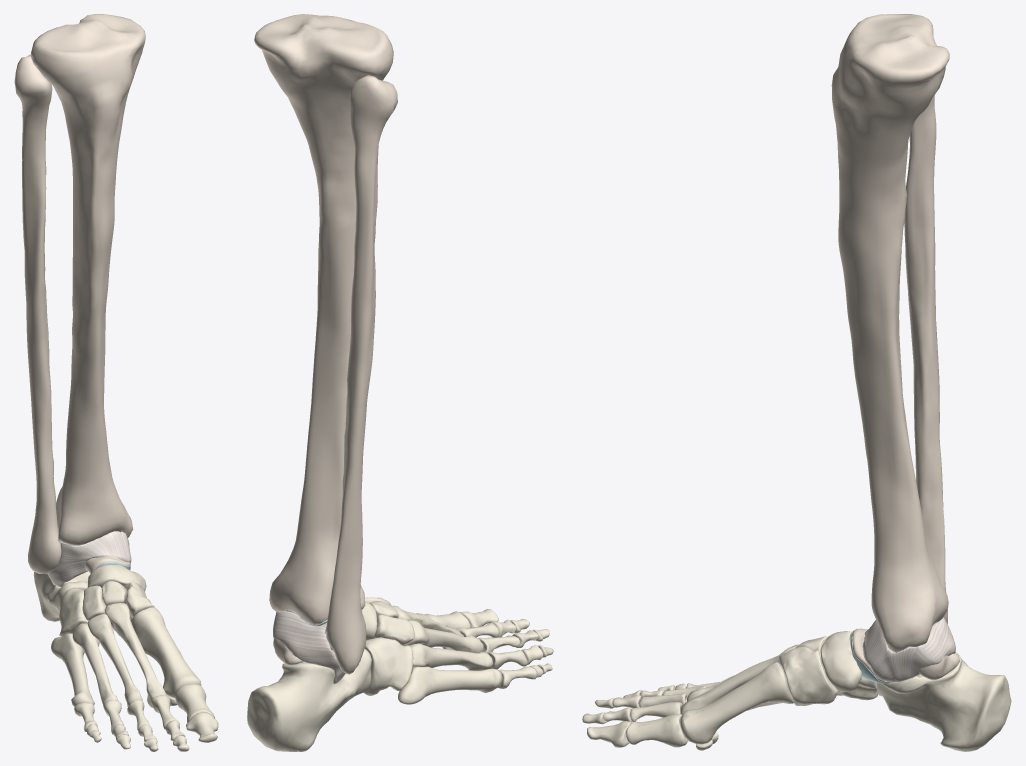
The model's file is ankle-B1fpQbyl.glb.
3 views of the same model, side by side, from view 1: azimuth 30°, elevation 25°; view 2: azimuth 150°, elevation 25°; view 3: azimuth 270°, elevation 25° (orthographic). The views are drawn at different scales.
Parts seen in each view (by area): view 1: Tibia, FootBones, Fibula, Capsule, Talus; view 2: Tibia, FootBones, Fibula, Capsule; view 3: Tibia, FootBones, Fibula, Capsule, Talus.
Part boxes in pixels (<box>): Tibia: <box>30,14,145,545</box>; FootBones: <box>33,564,218,751</box>; Fibula: <box>14,55,61,574</box>; Capsule: <box>48,531,131,587</box>; Talus: <box>66,555,130,581</box>; Tibia: <box>254,14,393,625</box>; FootBones: <box>247,597,553,751</box>; Fibula: <box>326,75,397,674</box>; Capsule: <box>273,610,345,684</box>; Tibia: <box>831,14,949,652</box>; FootBones: <box>582,631,1011,751</box>; Fibula: <box>904,35,947,624</box>; Capsule: <box>862,617,955,682</box>; Talus: <box>852,628,959,681</box>.
Bounding box in the file's own units: 0.1086 × 0.4254 × 0.2306.
6 materials, 1 textured.
